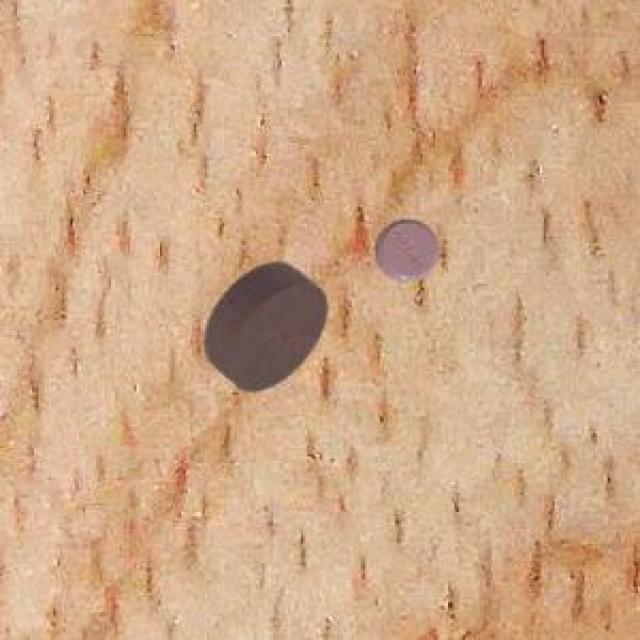Kremil_S: (190, 252, 336, 403), (364, 202, 444, 294)
